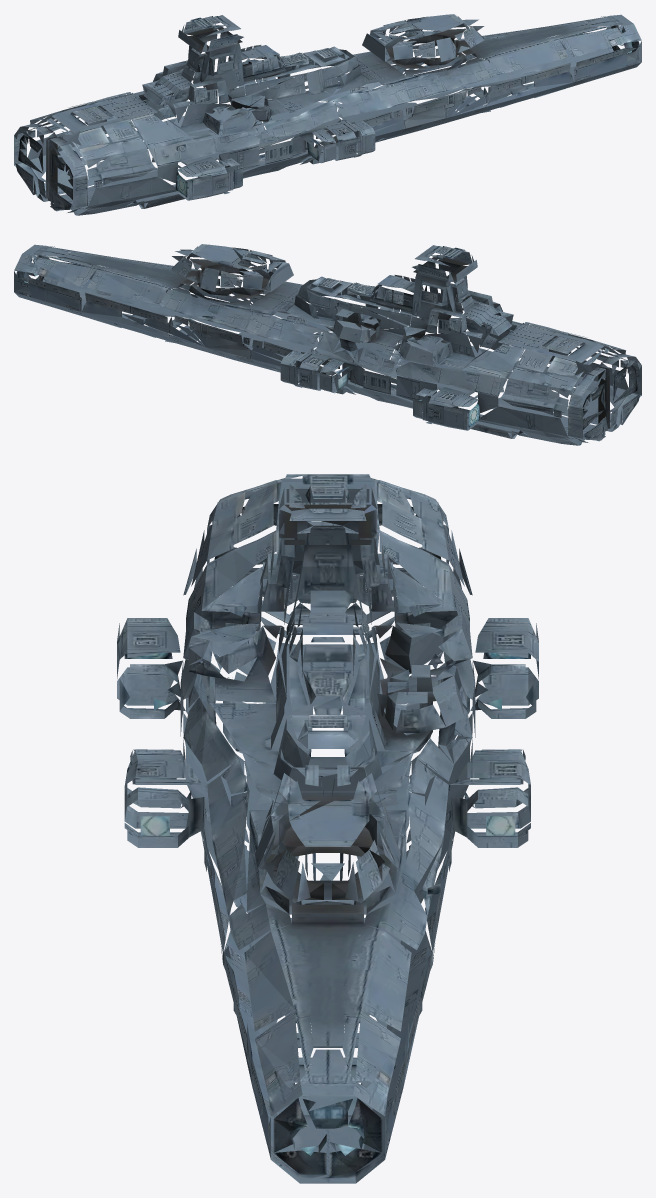
File: dreadnought_LOD2.glb
The picture shows the model from 3 angles, top to bottom: view 1: azimuth 30°, elevation 25°; view 2: azimuth 150°, elevation 25°; view 3: azimuth 270°, elevation 25°; orthographic projection. The views are drawn at different scales.
Parts seen in each view (by area): view 1: dreadnought_LOD2; view 2: dreadnought_LOD2; view 3: dreadnought_LOD2.
Boxes of the visible parts, box(x1,y1,x2,y2) form: dreadnought_LOD2: box(14, 14, 641, 215); dreadnought_LOD2: box(14, 244, 641, 445); dreadnought_LOD2: box(117, 474, 538, 1183).
Size of the model in its own units: 0.9989 by 0.26 by 0.3108.
1 material, 1 textured.
